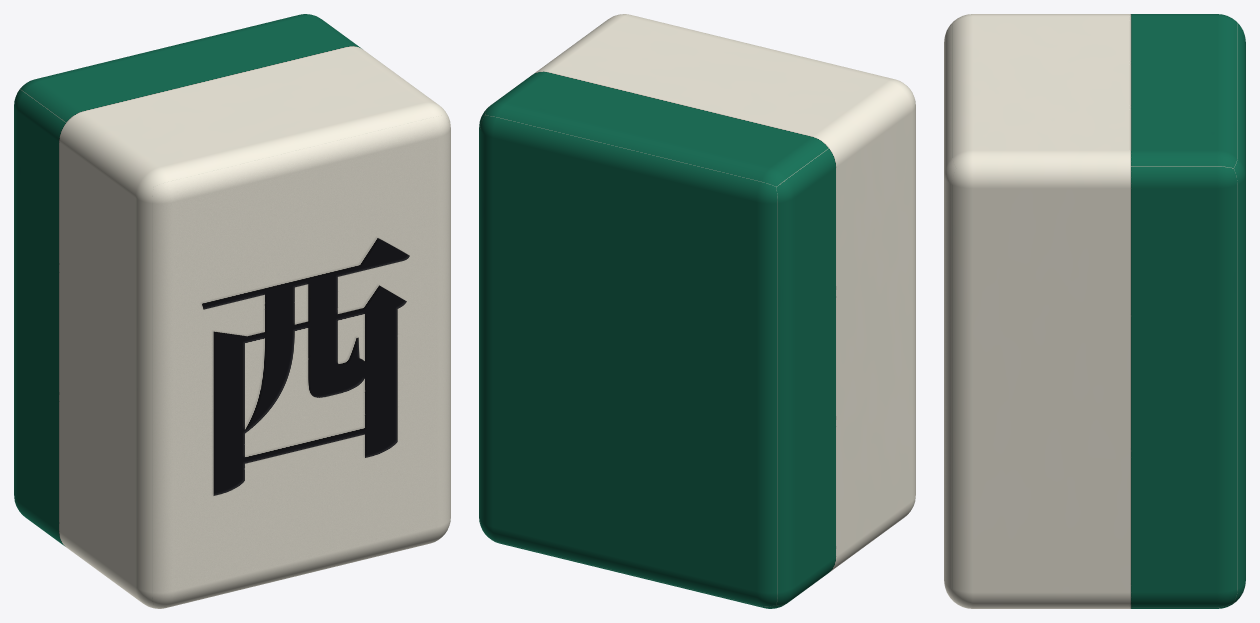
File: tile_3z.obj
3 views of the same model, side by side, from view 1: azimuth 30°, elevation 25°; view 2: azimuth 150°, elevation 25°; view 3: azimuth 270°, elevation 25° (orthographic). The views are drawn at different scales.
Parts seen in each view (by area): view 1: tile_3z; view 2: tile_3z; view 3: tile_3z.
Part boxes in pixels (box(x1,y1,x2,y2)): tile_3z: box(14, 14, 450, 608); tile_3z: box(479, 14, 915, 608); tile_3z: box(944, 14, 1245, 608).
Bounding box in the file's own units: 0.026 × 0.035 × 0.021.
Materials: 1 (1 with a texture image).
